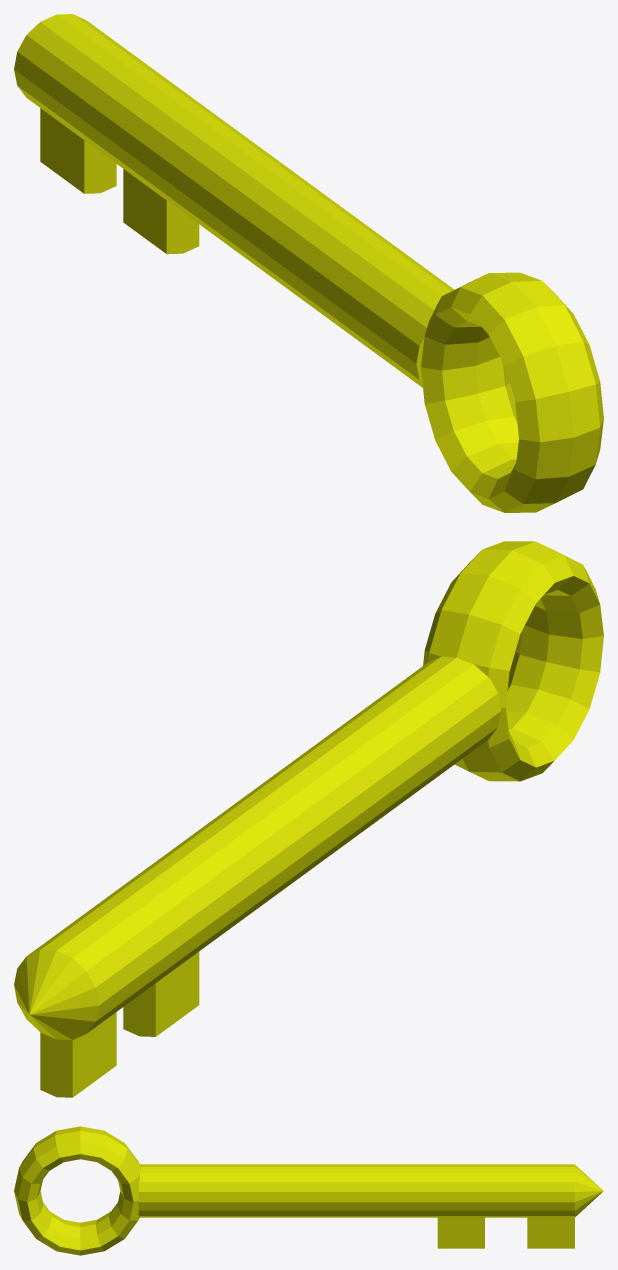
The model's file is klucz.fbx.
3 views of the same model, one above another, from view 1: azimuth 30°, elevation 25°; view 2: azimuth 150°, elevation 25°; view 3: azimuth 270°, elevation 25° (orthographic). The views are drawn at different scales.
Visible parts, largest first — view 1: Key; view 2: Key; view 3: Key.
Boxes of the visible parts, x1,y1,x2,y2 form: Key: (14, 14, 603, 512); Key: (14, 541, 603, 1097); Key: (14, 1126, 603, 1255).
Size of the model in its own units: 200 by 500 by 2219.
